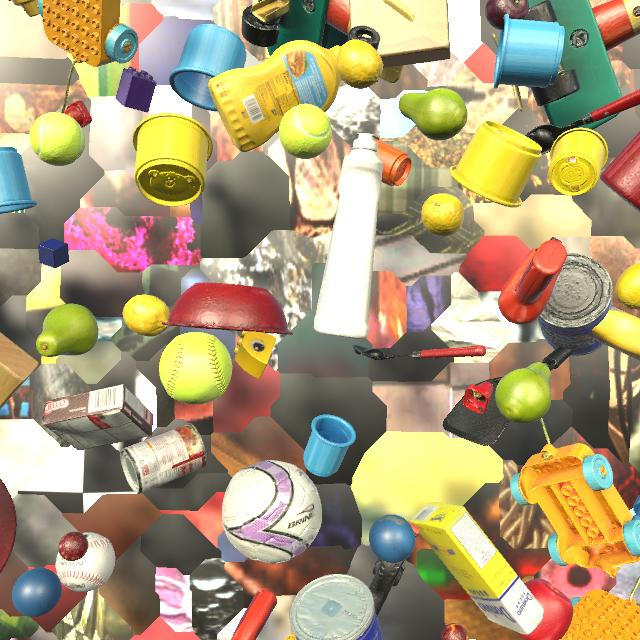ycb_002_master_chef_can: (537, 253, 613, 356), (289, 574, 383, 640)
ycb_004_sugar_box: (410, 502, 544, 635)
ycb_005_tomato_soup_can: (120, 423, 207, 494)
ycb_006_mustard_bottle: (208, 40, 342, 152), (591, 307, 640, 361), (12, 0, 40, 17)
ycb_008_pudding_box: (42, 384, 153, 451)
ycb_013_apple: (517, 579, 573, 640)
ycb_014_lemon: (336, 39, 383, 89), (123, 295, 170, 337), (421, 194, 464, 237), (615, 263, 640, 309)
ycb_016_pear: (399, 88, 468, 141), (495, 362, 551, 424), (36, 304, 99, 357)
ycb_018_plum: (485, 0, 529, 30)
